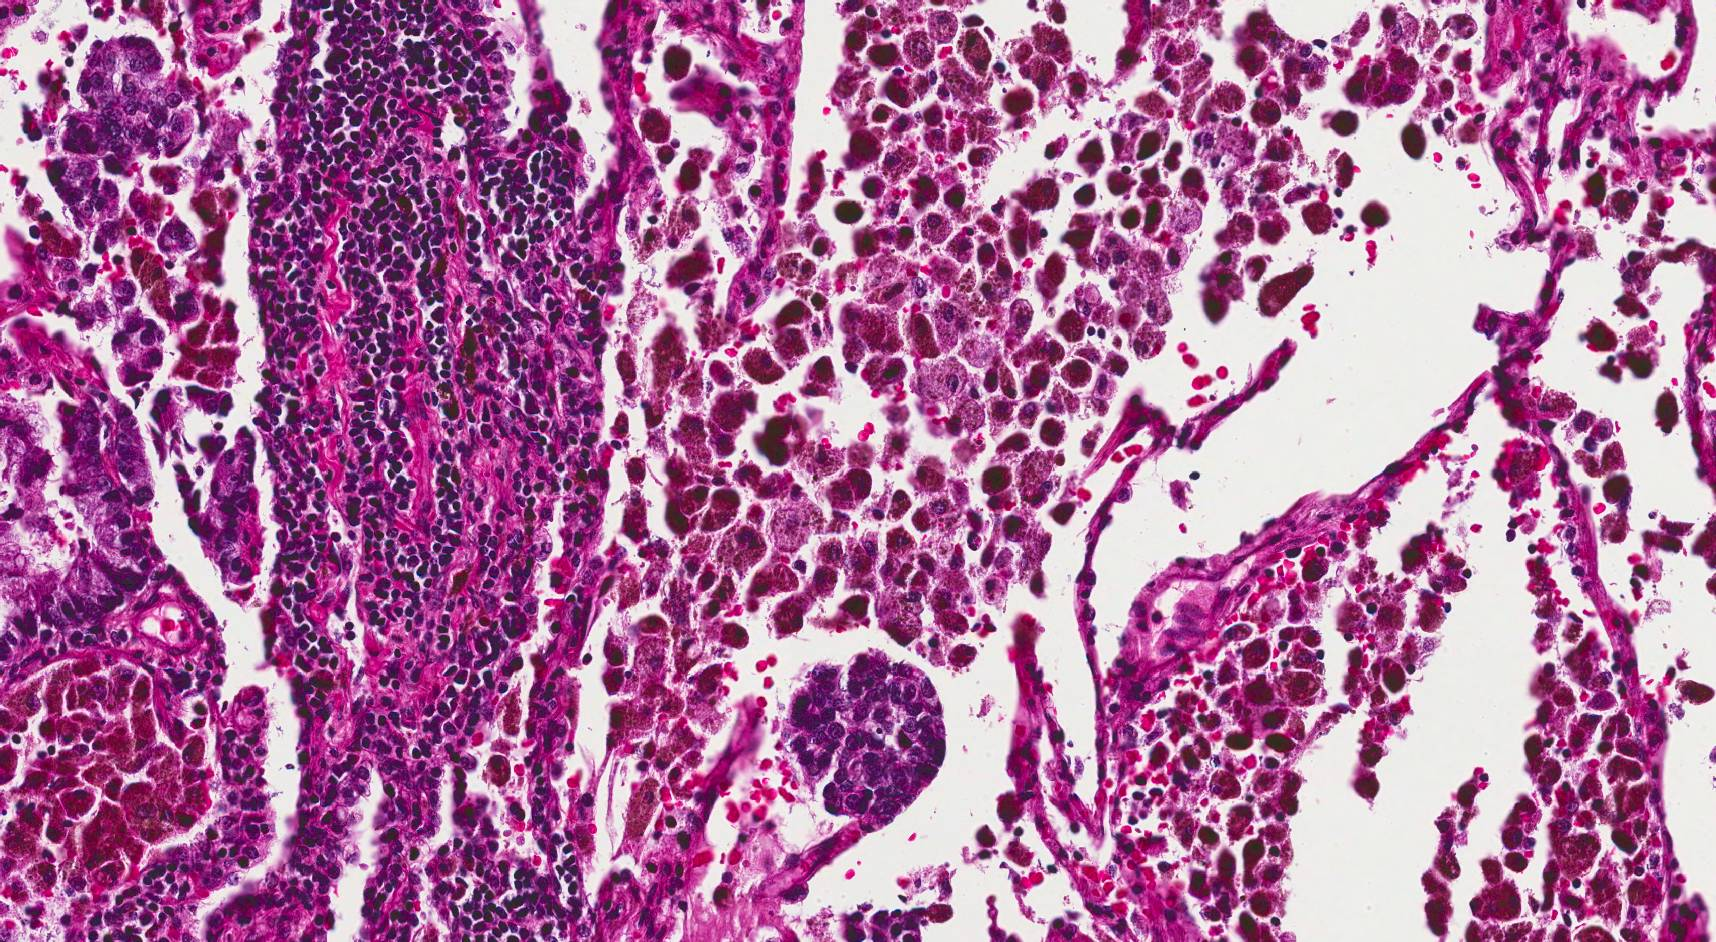stas: (785, 648, 953, 825), (47, 35, 198, 215)
